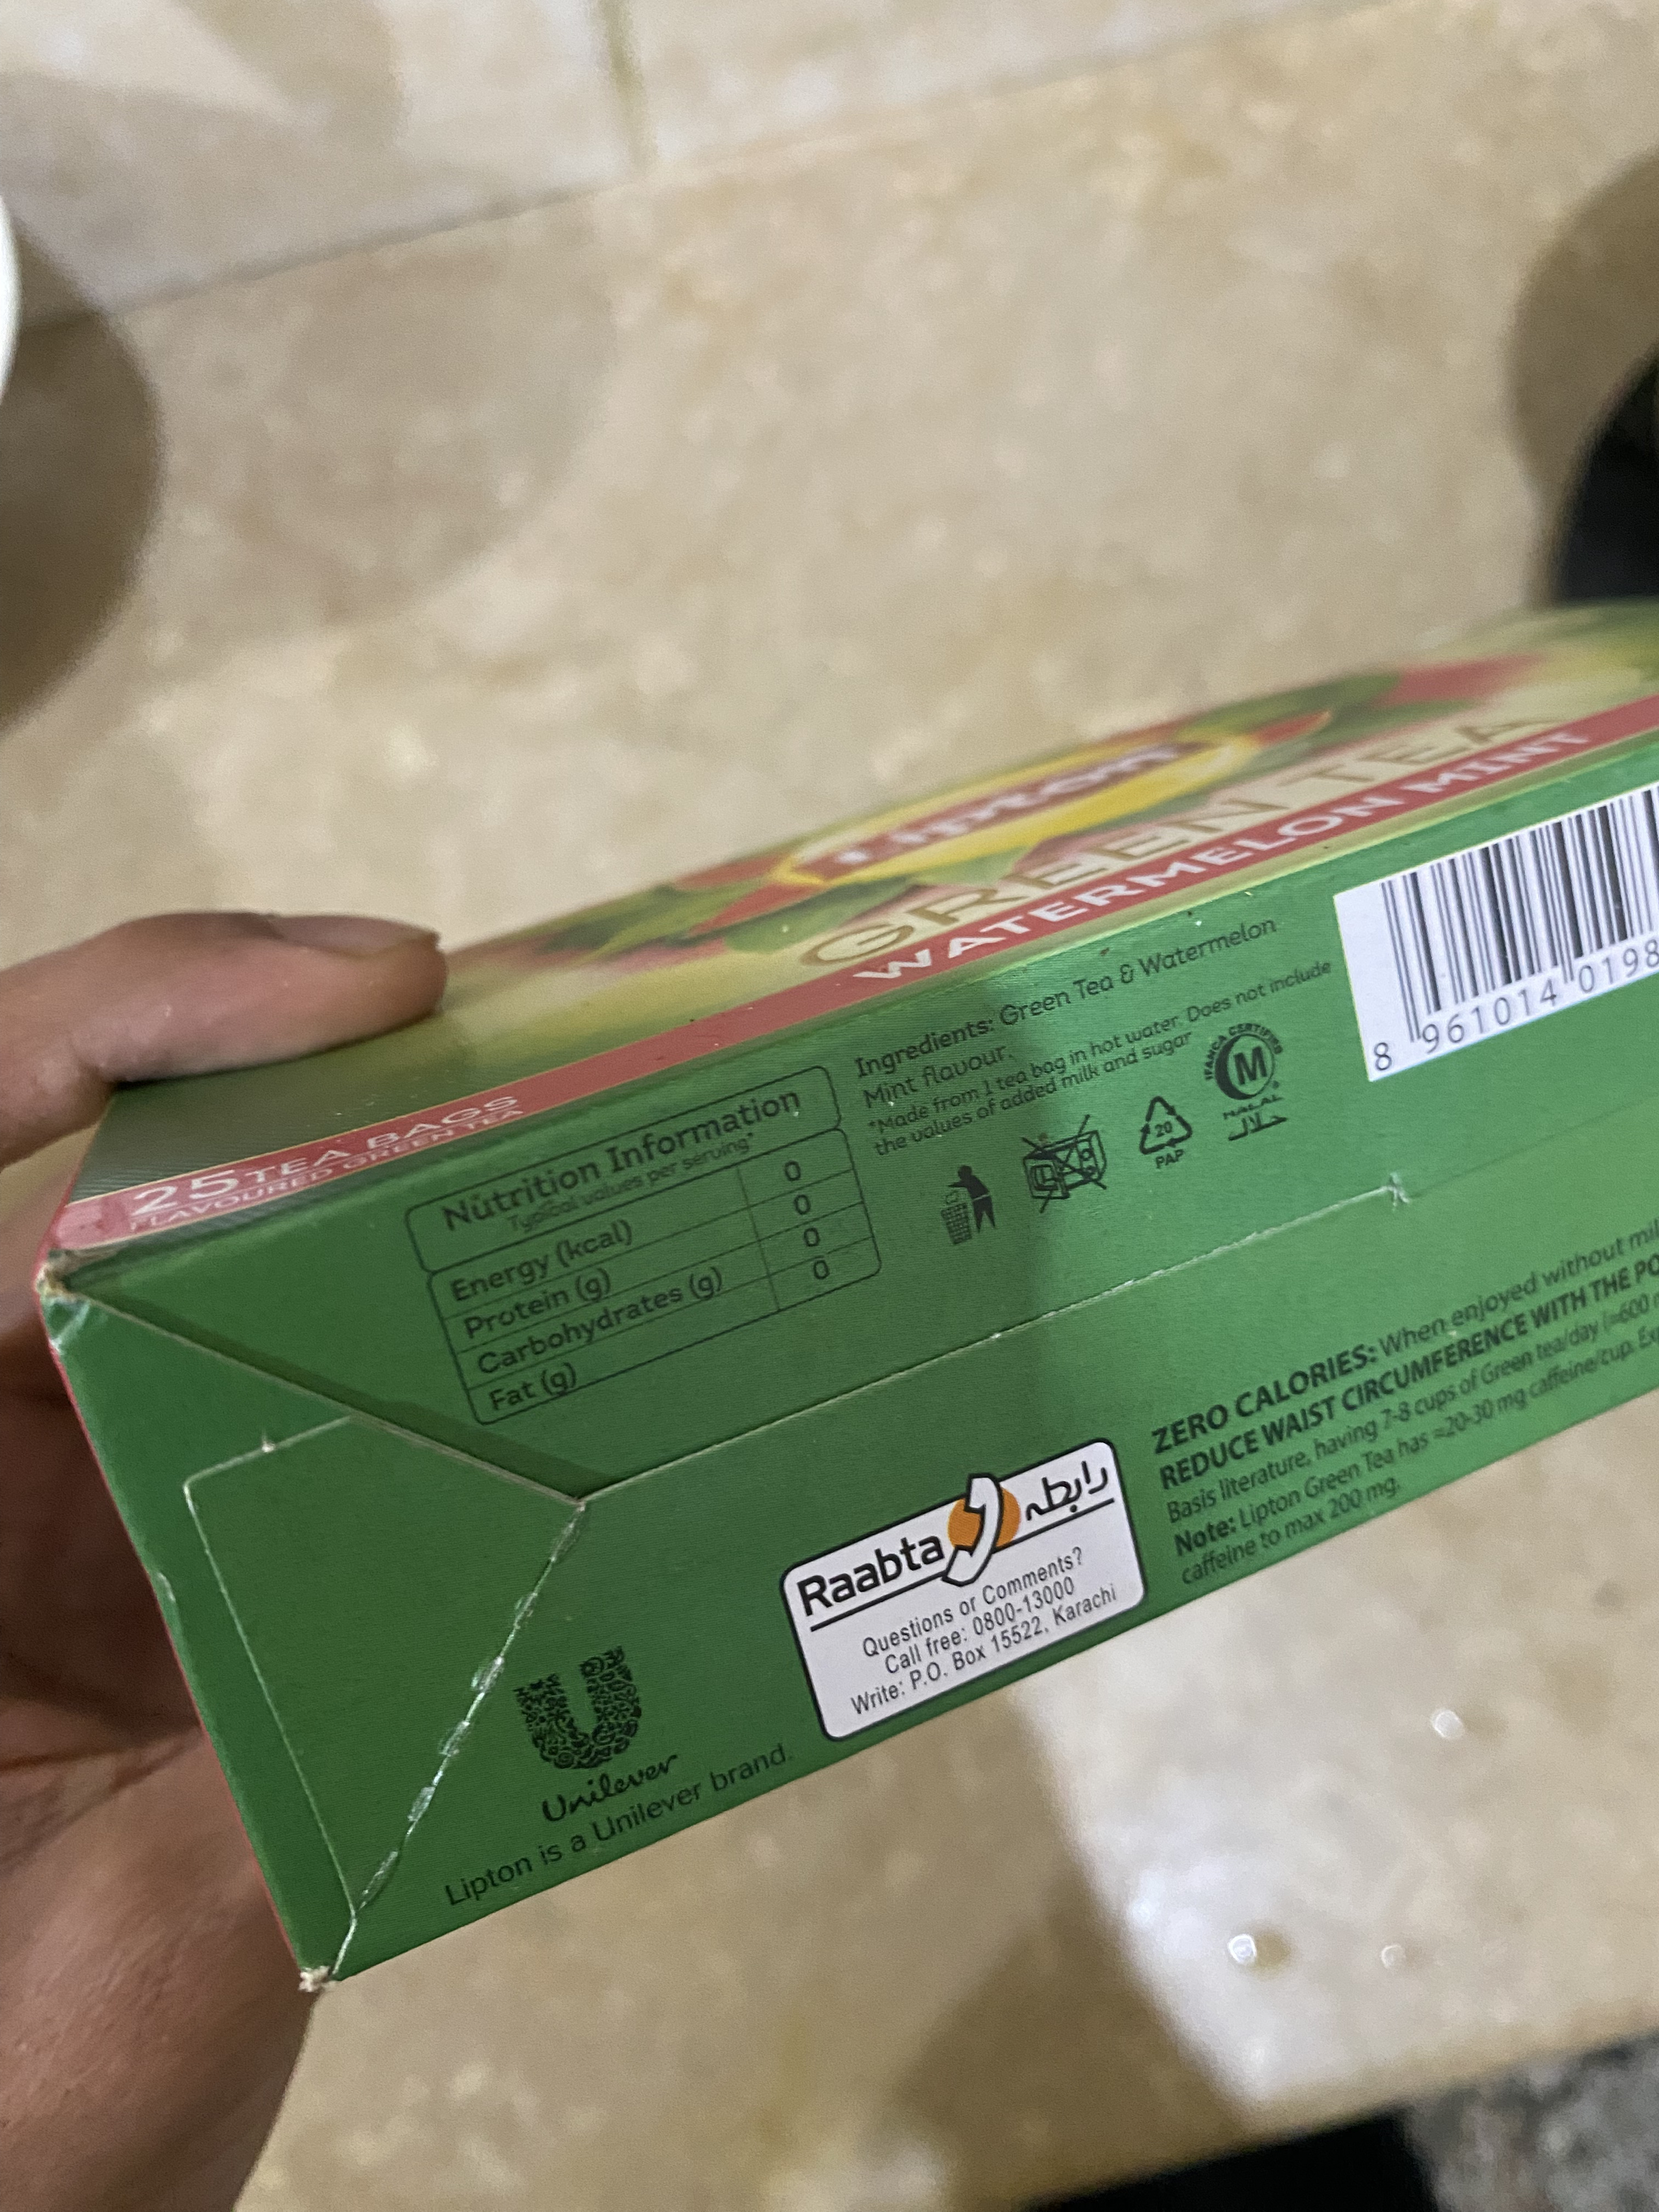table: (406, 1057, 894, 1437)
